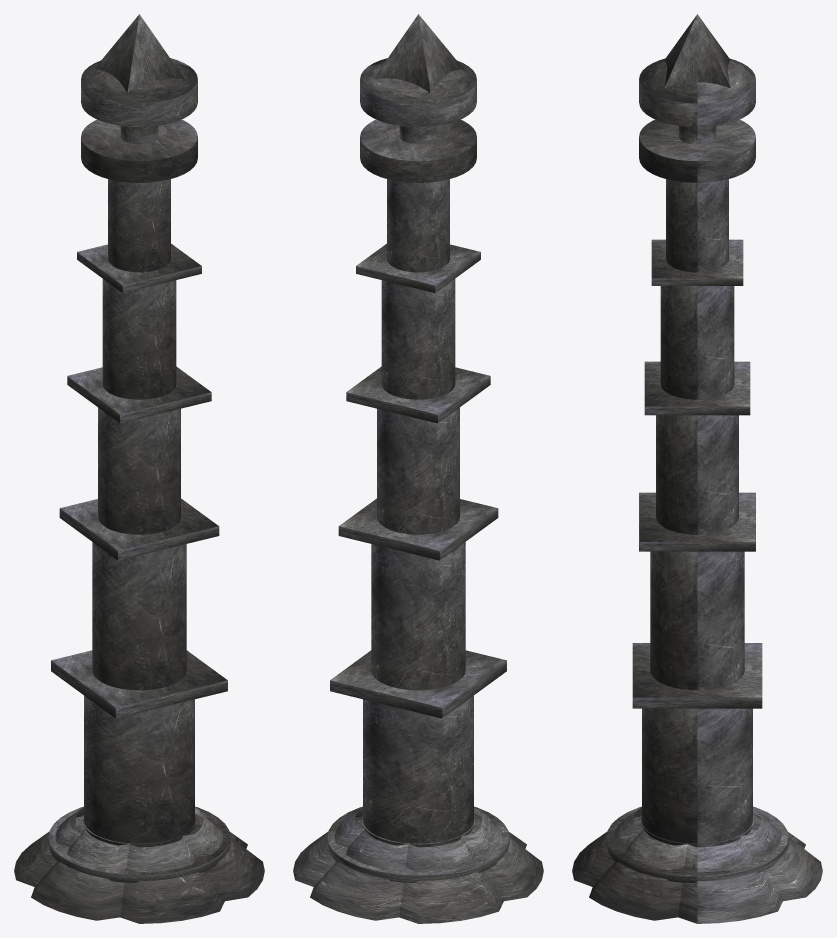
Rendered from Мояк c4d.fbx.
3 views of the same model, side by side, from view 1: azimuth 30°, elevation 25°; view 2: azimuth 150°, elevation 25°; view 3: azimuth 270°, elevation 25° (orthographic).
Visible parts, largest first — view 1: Объект_Цилиндр_1, Объект_Цилиндр_2, Объект_Цилиндр_2_2, Объект_Цилиндр_3, Объект_Цилиндр_5, Объект_Цистерна, Объект_Цилиндр_4, Объект_Куб, Объект_Куб_1, Объект_Труба, Объект_Куб_2, Объект_Пирамида (+2 smaller); view 2: Объект_Цилиндр_1, Объект_Цилиндр_2, Объект_Цилиндр_2_2, Объект_Цилиндр_3, Объект_Цилиндр_5, Объект_Цистерна, Объект_Цилиндр_4, Объект_Куб, Объект_Куб_1, Объект_Труба, Объект_Куб_2, Объект_Пирамида (+2 smaller); view 3: Объект_Цилиндр_1, Объект_Цилиндр_2, Объект_Цилиндр_2_2, Объект_Цилиндр_3, Объект_Цилиндр_5, Объект_Цистерна, Объект_Цилиндр_4, Объект_Куб, Объект_Куб_1, Объект_Труба, Объект_Куб_2, Объект_Пирамида (+2 smaller).
Part boxes in pixels (x1,y1,x2,y2): Объект_Цилиндр_1: (14, 807, 264, 923); Объект_Цилиндр_2: (84, 695, 194, 847); Объект_Цилиндр_2_2: (92, 542, 186, 690); Объект_Цилиндр_3: (98, 407, 180, 534); Объект_Цилиндр_5: (102, 279, 176, 399); Объект_Цистерна: (81, 58, 197, 182); Объект_Цилиндр_4: (108, 179, 170, 272); Объект_Куб: (51, 650, 227, 718); Объект_Куб_1: (59, 498, 219, 560); Объект_Труба: (81, 119, 197, 161); Объект_Куб_2: (67, 366, 211, 423); Объект_Пирамида: (94, 14, 184, 93); Объект_Цилиндр_1: (293, 807, 543, 923); Объект_Цилиндр_2: (363, 695, 473, 847); Объект_Цилиндр_2_2: (371, 542, 465, 690); Объект_Цилиндр_3: (377, 407, 459, 534); Объект_Цилиндр_5: (381, 279, 455, 399); Объект_Цистерна: (360, 58, 476, 182); Объект_Цилиндр_4: (387, 179, 449, 272); Объект_Куб: (330, 650, 506, 718); Объект_Куб_1: (338, 498, 498, 560); Объект_Труба: (360, 119, 476, 161); Объект_Куб_2: (346, 366, 490, 423); Объект_Пирамида: (373, 14, 463, 93); Объект_Цилиндр_1: (572, 807, 822, 923); Объект_Цилиндр_2: (642, 708, 752, 847); Объект_Цилиндр_2_2: (650, 551, 744, 690); Объект_Цилиндр_3: (656, 415, 738, 534); Объект_Цилиндр_5: (660, 286, 734, 399); Объект_Цистерна: (639, 58, 755, 182); Объект_Цилиндр_4: (666, 179, 728, 272); Объект_Куб: (632, 643, 762, 708); Объект_Куб_1: (639, 492, 755, 551); Объект_Труба: (639, 119, 755, 161); Объект_Куб_2: (644, 361, 750, 415); Объект_Пирамида: (664, 14, 730, 87).
Bounding box in the file's own units: 429 × 1619 × 429.
3 materials, 3 textured.
